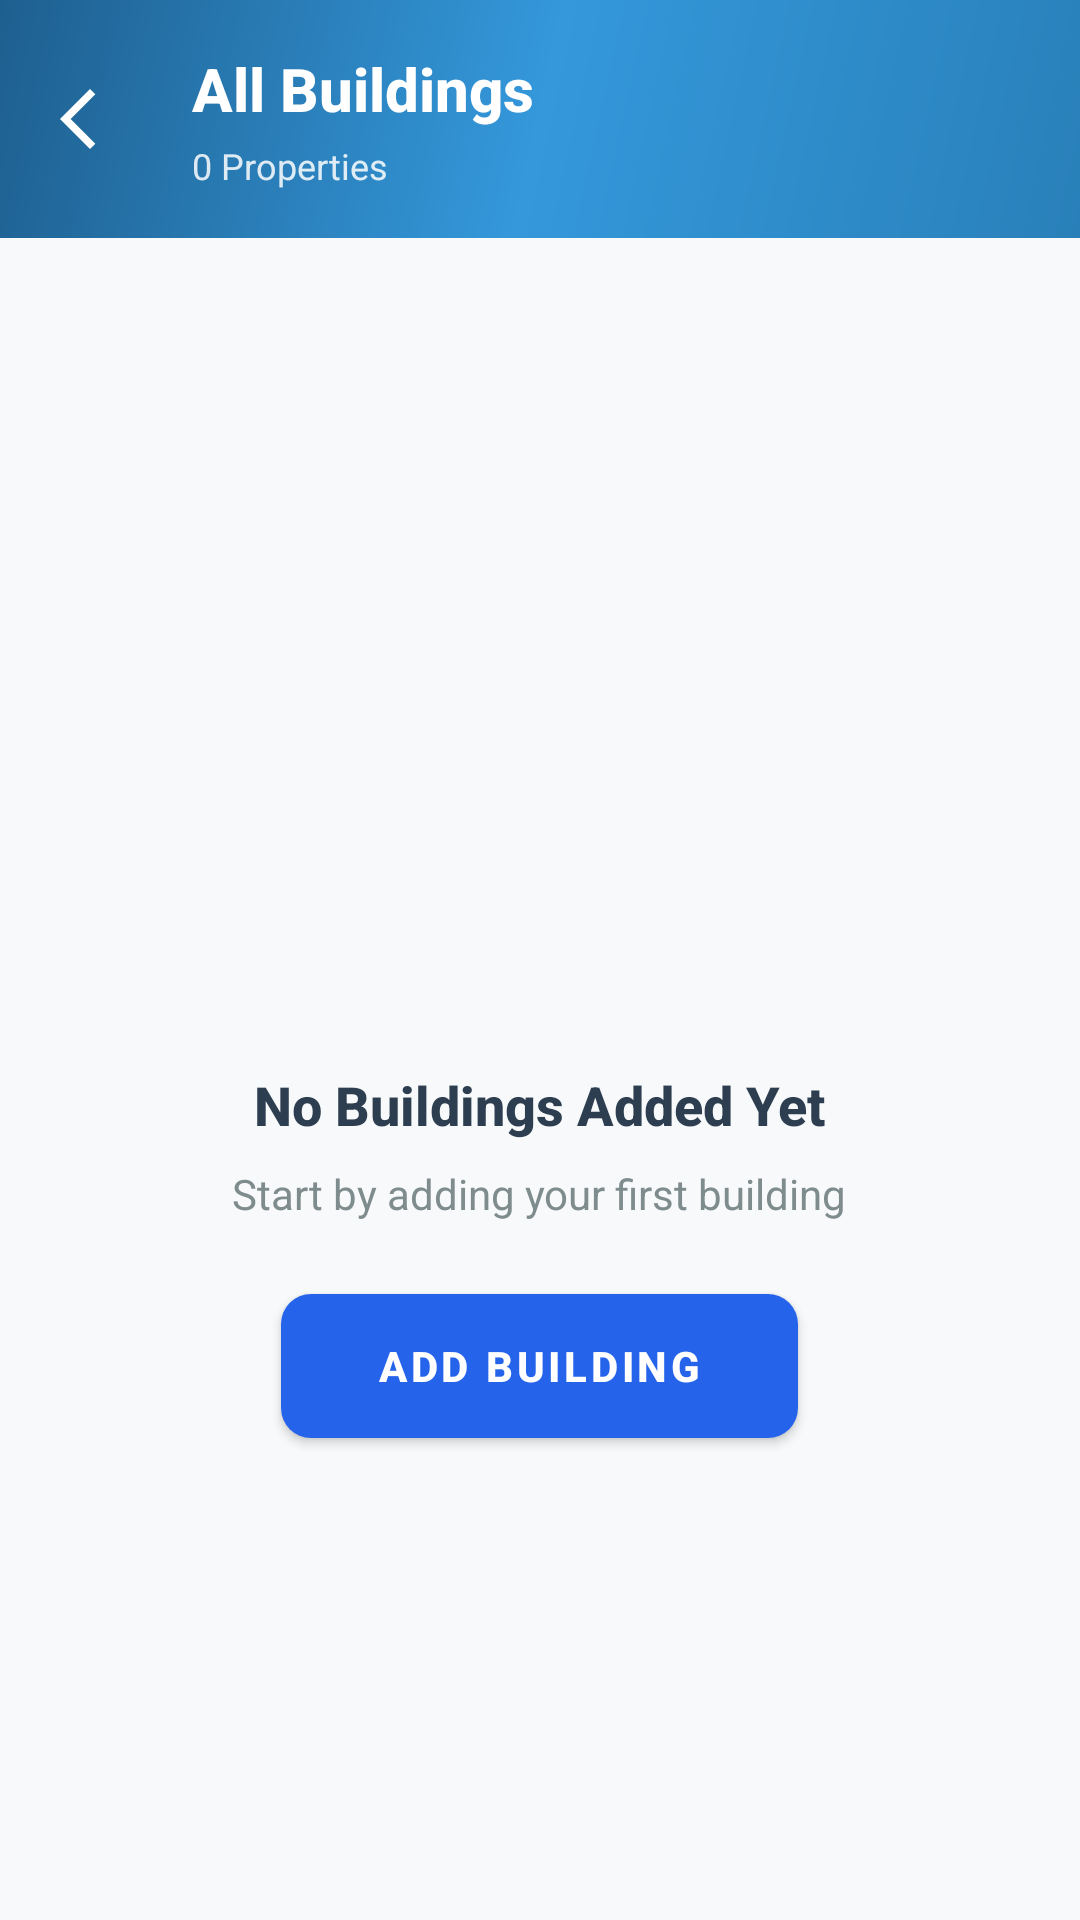

Locate icon controls on the screen. Image size 1080 x 1920, boxes as [x1,y1,x2,y2].
Back: [60,89,95,149]
